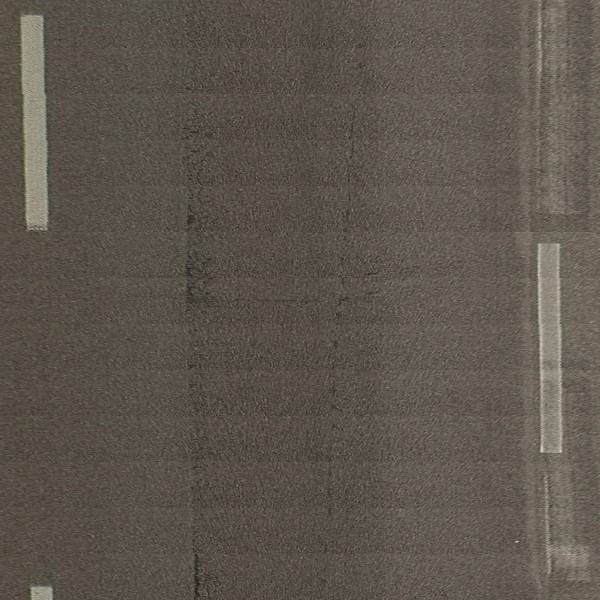road_damage: (181, 206, 221, 319), (188, 549, 206, 600)
